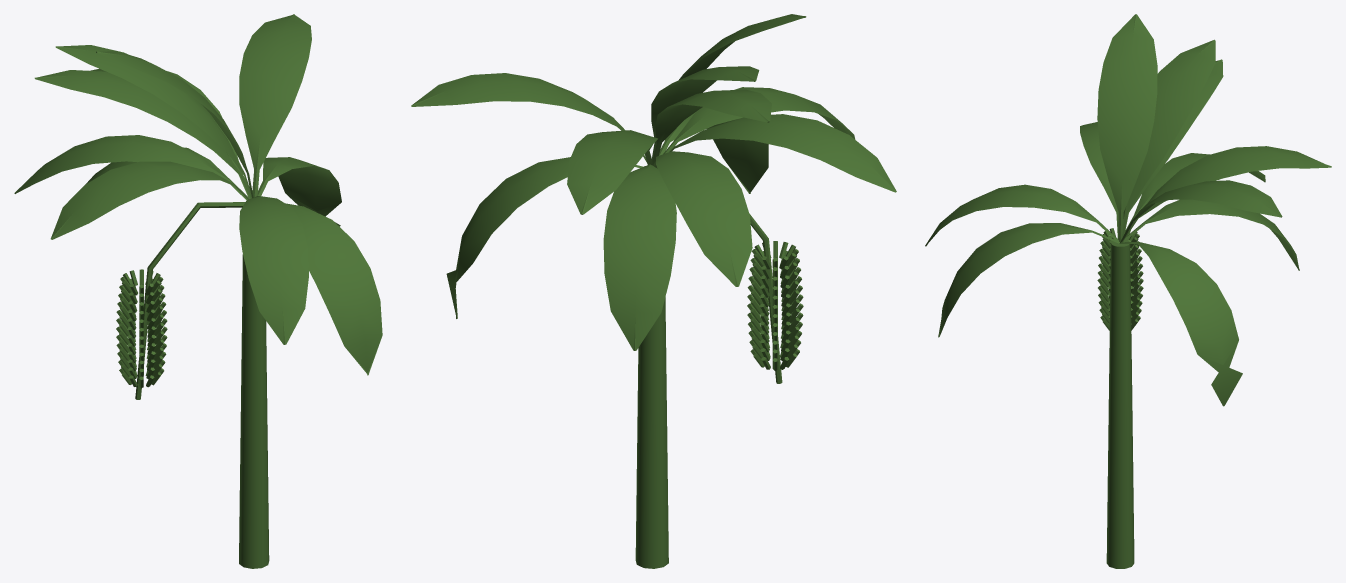
File: banana_chuoi_su.glb
3 views of the same model, side by side, from view 1: azimuth 30°, elevation 25°; view 2: azimuth 150°, elevation 25°; view 3: azimuth 270°, elevation 25° (orthographic). The views are drawn at different scales.
Parts seen in each view (by area): view 1: banana_chuoi_su; view 2: banana_chuoi_su; view 3: banana_chuoi_su.
Boxes of the visible parts, x1,y1,x2,y2 form: banana_chuoi_su: [14, 14, 382, 568]; banana_chuoi_su: [411, 14, 896, 568]; banana_chuoi_su: [925, 14, 1331, 568].
Bounding box in the file's own units: 2.87 × 4.23 × 3.22.
